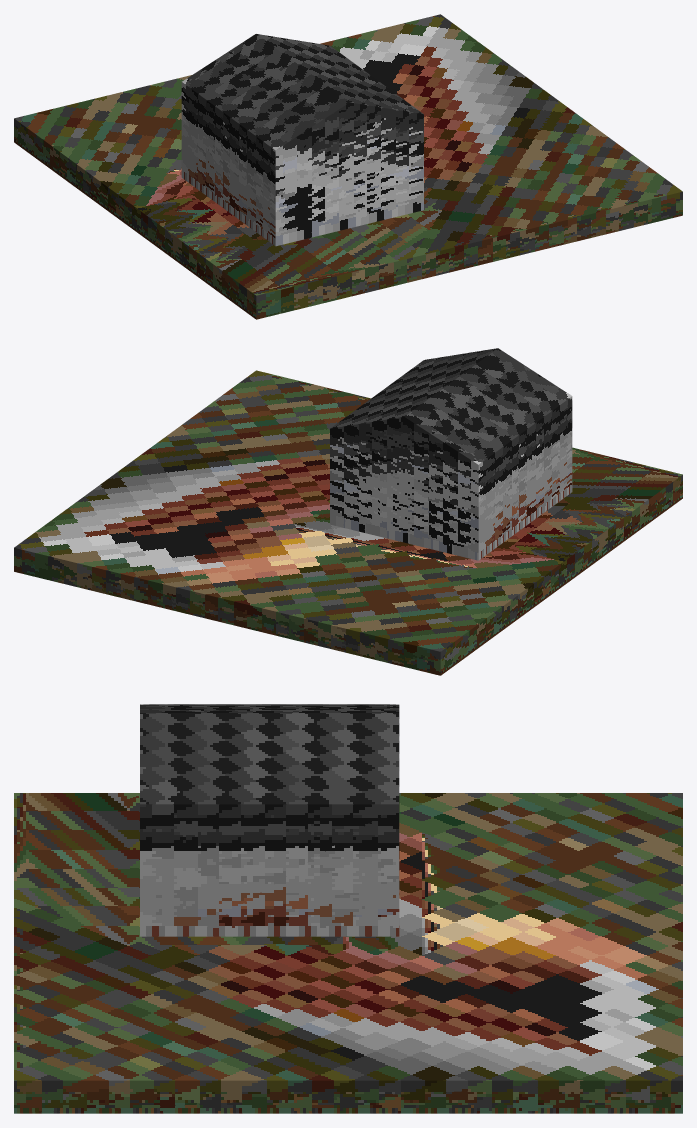
Rendered from dum_51_domy_3.glb.
The picture shows the model from 3 angles, top to bottom: view 1: azimuth 30°, elevation 25°; view 2: azimuth 150°, elevation 25°; view 3: azimuth 270°, elevation 25°; orthographic projection. The views are drawn at different scales.
Size of the model in its own units: 13.97 by 4.69 by 13.74.
1 material, 1 textured.
